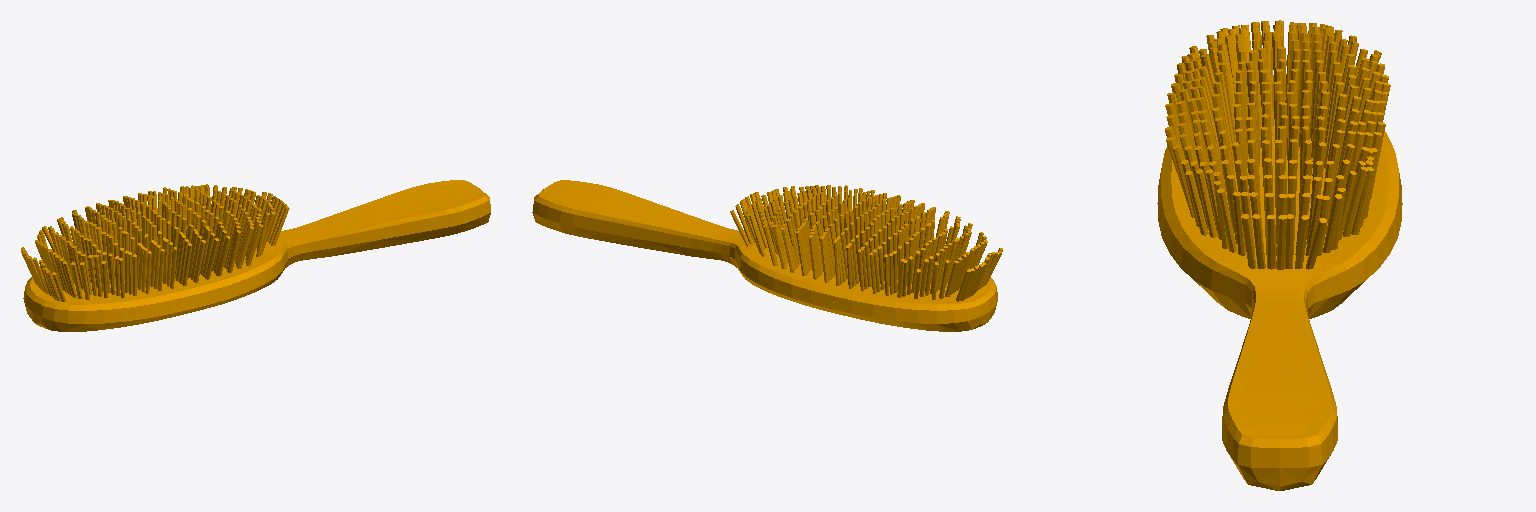
The robot description file, URDF, robot "none":
<robot name="none">
       <link name="none">
           <visual>
               <origin rpy="1.57 0 0" xyz="0 0 0" />
               <geometry>
                   <mesh filename="com_bath2_cepillo.obj" />
               </geometry>
           </visual>
          <collision>
              <geometry>
                  <box size="1.000000 0.182702 0.285260" />
              </geometry>
          </collision>

          <inertial>
            <mass value="0.0" />
            <inertia ixx="0.0" ixy="0.0" ixz="0.0" iyy="0.0" iyz="0.0" izz="0.0" />
          </inertial>
      </link>
  </robot>

--- Facts derived from the render (not from the file) ---
Views: 3 orthographic renders of the robot side by side, from view 1: azimuth 30°, elevation 25°; view 2: azimuth 150°, elevation 25°; view 3: azimuth 270°, elevation 25°.
Robot: none — 1 links, 0 joints (none); root link none; default pose: all joints at 0.
Links seen in each view (by area): view 1: none; view 2: none; view 3: none.
Boxes of the visible links, left/top/right/bottom form: none: left=21, top=180, right=490, bottom=331; none: left=532, top=180, right=1002, bottom=331; none: left=1157, top=20, right=1402, bottom=490.
Size in the robot's own frame: 1 by 0.2853 by 0.1827 metres.
Meshes: 1 distinct files referenced, 1 mesh visuals loaded (1 OBJ).